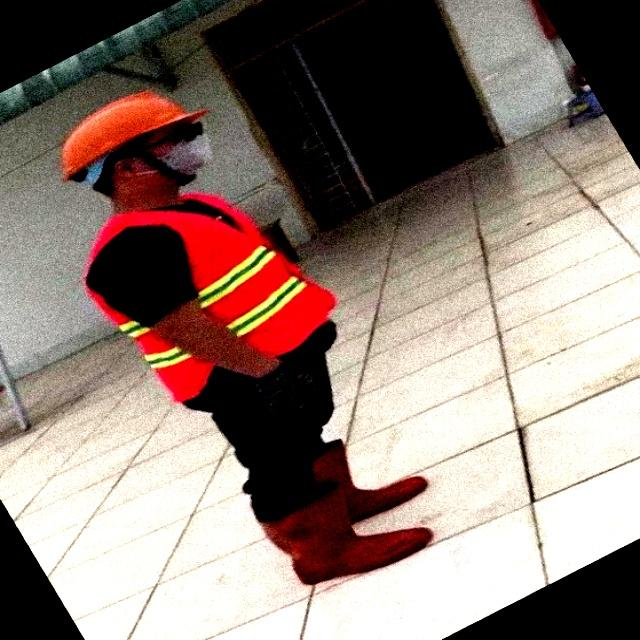helmet: (37, 100, 238, 154)
safety_vest: (91, 183, 326, 407)
